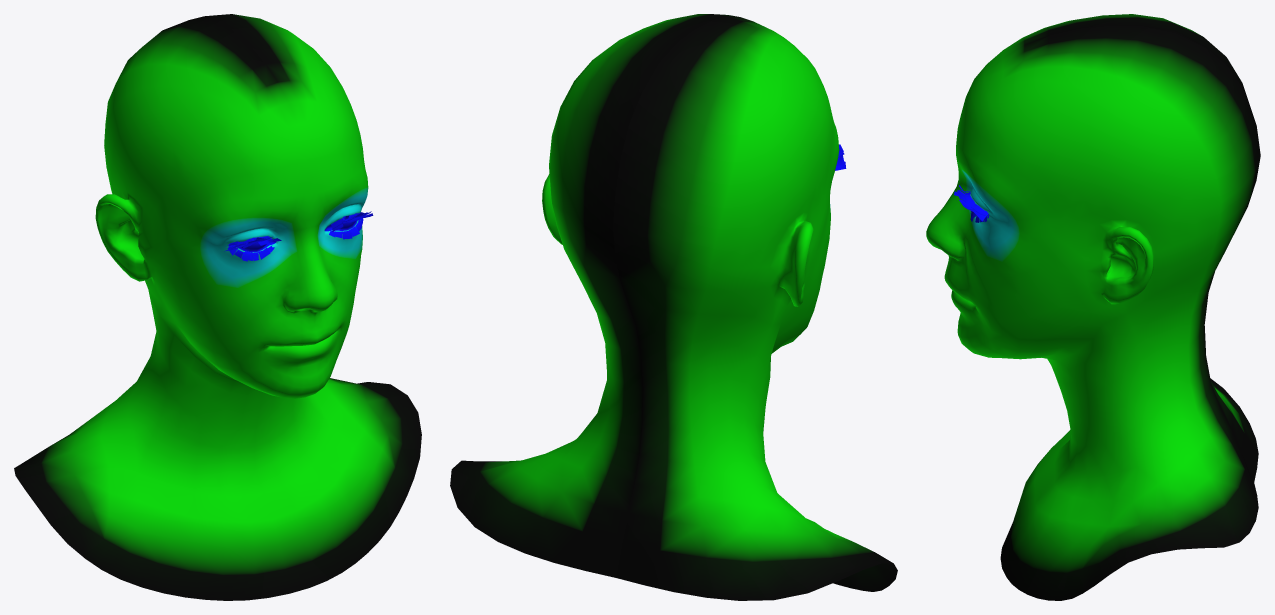
File: Female_Head_0001.fbx
The picture shows the model from 3 angles, left to right: view 1: azimuth 30°, elevation 25°; view 2: azimuth 150°, elevation 25°; view 3: azimuth 270°, elevation 25°; orthographic projection. The views are drawn at different scales.
Visible parts, largest first — view 1: Female_Head_0001; view 2: Female_Head_0001; view 3: Female_Head_0001.
Boxes of the visible parts, x1,y1,x2,y2 form: Female_Head_0001: [14, 14, 421, 600]; Female_Head_0001: [450, 14, 897, 600]; Female_Head_0001: [926, 14, 1260, 600].
Size of the model in its own units: 27.1 by 35.25 by 20.07.
